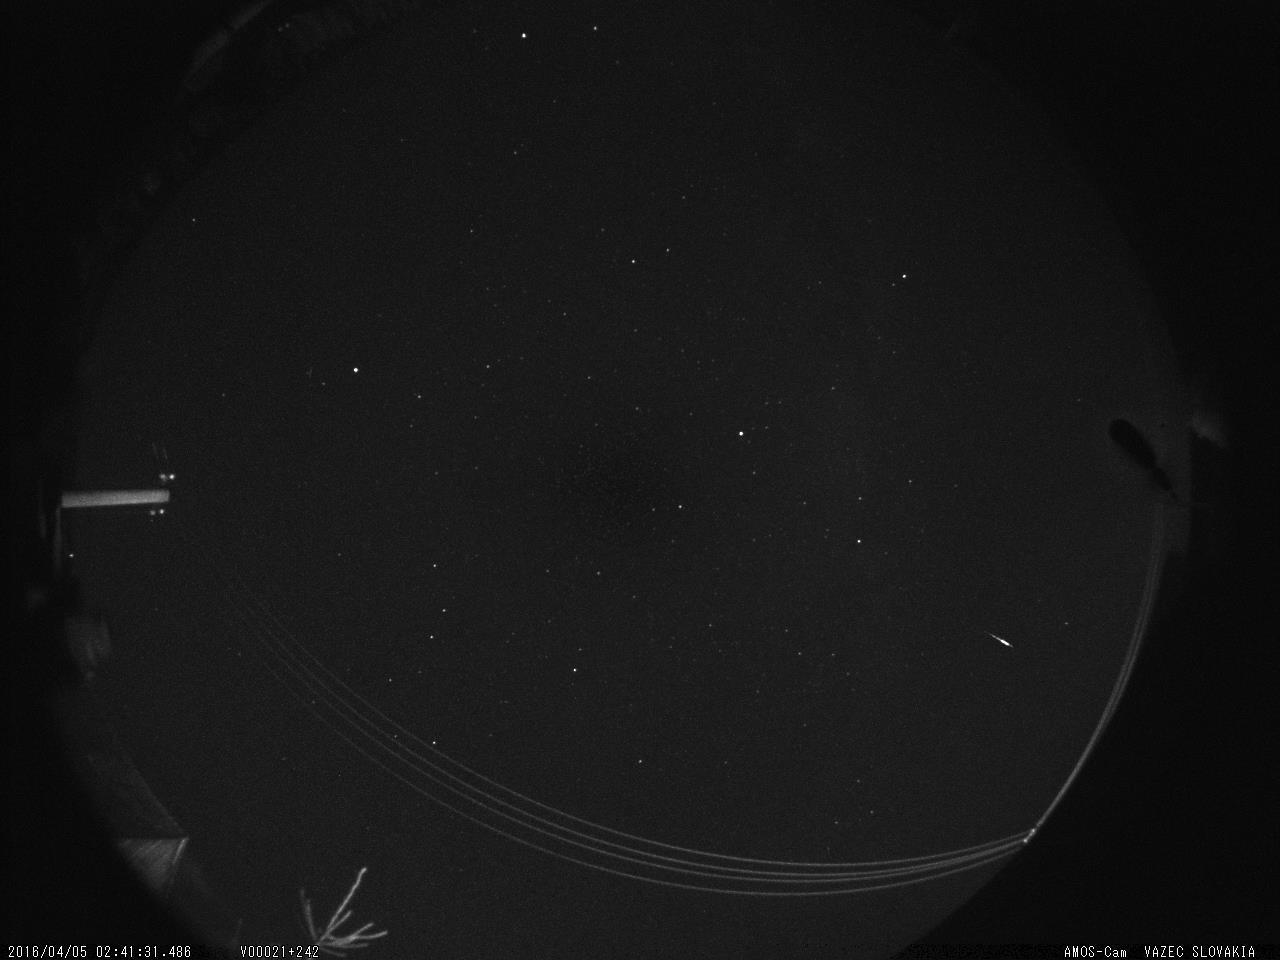Meteor: (978, 622, 1021, 656)
